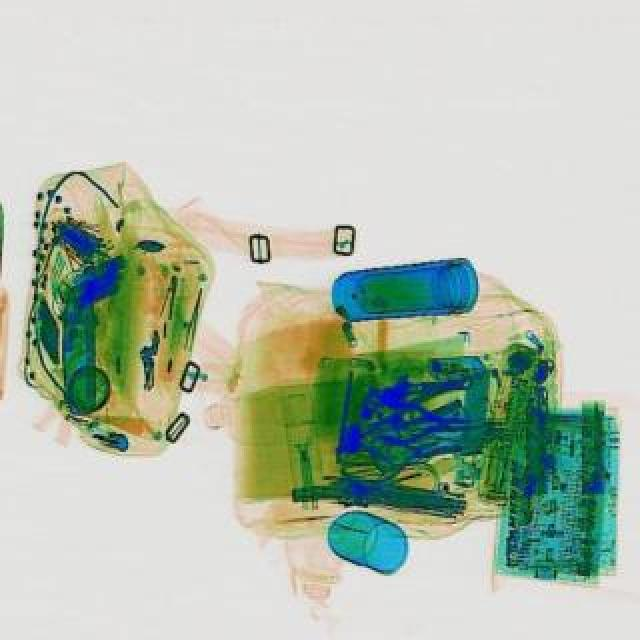scissors: (384, 370, 478, 402)
wrench: (386, 398, 482, 444)
